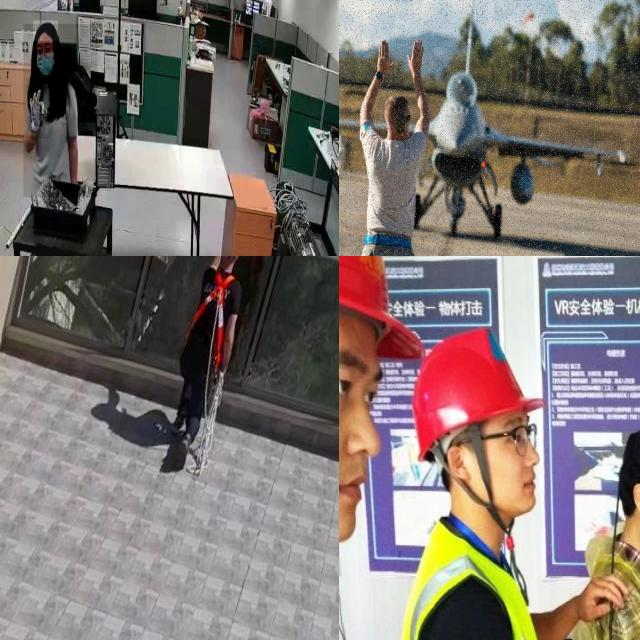Ear-protection: (383, 88, 416, 145)
Harness: (186, 272, 238, 392)
No_Ear-Protection: (446, 446, 471, 480), (633, 483, 640, 512)
No_Glasses: (339, 346, 382, 412)
face_mask: (34, 42, 57, 84)
face_nomask: (339, 408, 382, 542), (488, 444, 539, 512)
glasses: (32, 43, 56, 62)
hand_glove: (25, 86, 51, 140)
head_helmet: (413, 328, 543, 458)
head_nohelmet: (386, 101, 410, 126), (33, 20, 59, 42)
person: (346, 12, 434, 256), (24, 24, 98, 198)
